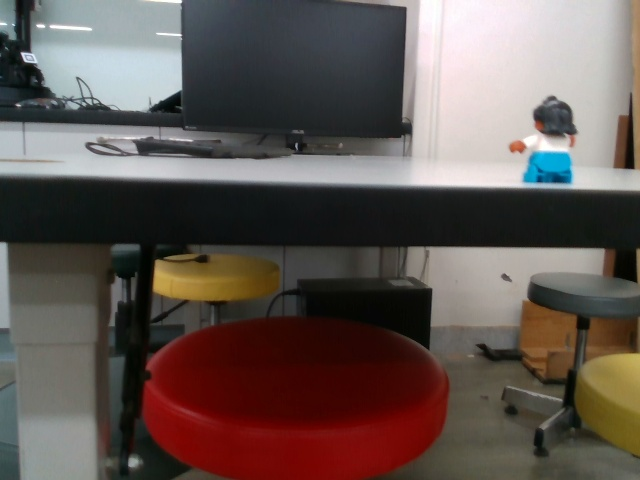people: (507, 92, 582, 187)
